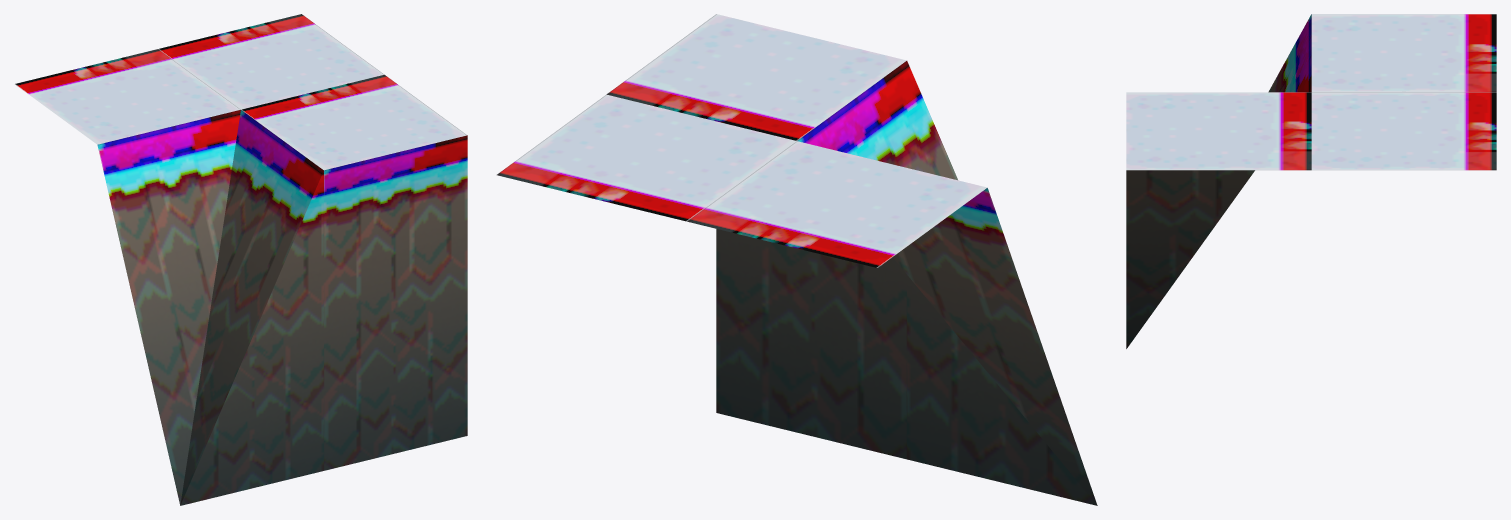
The model's file is arch_winter_wall_cornerInCap_A.FBX.
The picture shows the model from 3 angles, left to right: view 1: azimuth 30°, elevation 25°; view 2: azimuth 150°, elevation 25°; view 3: azimuth 270°, elevation 25°; orthographic projection. The views are drawn at different scales.
Visible parts, largest first — view 1: arch_winter_wall_cornerInCap_A; view 2: arch_winter_wall_cornerInCap_A; view 3: arch_winter_wall_cornerInCap_A.
Part boxes in pixels (x1,y1,x2,y2): arch_winter_wall_cornerInCap_A: [15, 14, 467, 505]; arch_winter_wall_cornerInCap_A: [497, 14, 1097, 505]; arch_winter_wall_cornerInCap_A: [1126, 14, 1496, 348].
Size of the model in its own units: 4 by 4 by 4.
1 material, 1 textured.
